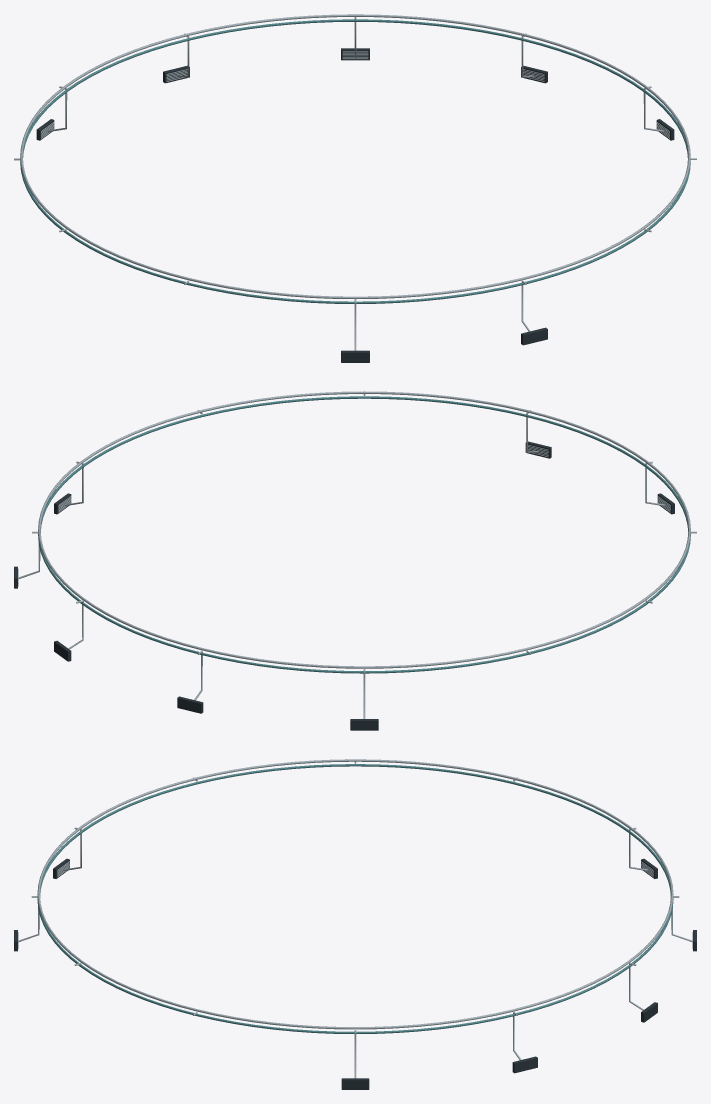
Rendered from RD_W03_Services.fbx.
3 views of the same model, one above another, from view 1: azimuth 30°, elevation 25°; view 2: azimuth 150°, elevation 25°; view 3: azimuth 270°, elevation 25° (orthographic). The views are drawn at different scales.
Parts seen in each view (by area): view 1: RD_W03_Services; view 2: RD_W03_Services; view 3: RD_W03_Services.
Boxes of the visible parts, <box> form: RD_W03_Services: <box>14,14,696,362</box>; RD_W03_Services: <box>14,391,696,730</box>; RD_W03_Services: <box>14,759,696,1089</box>.
Size of the model in its own units: 1676 by 146 by 1720.
